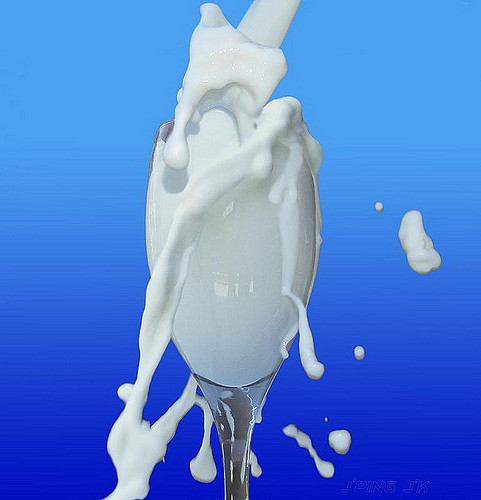glass of milk: (146, 92, 311, 500)
